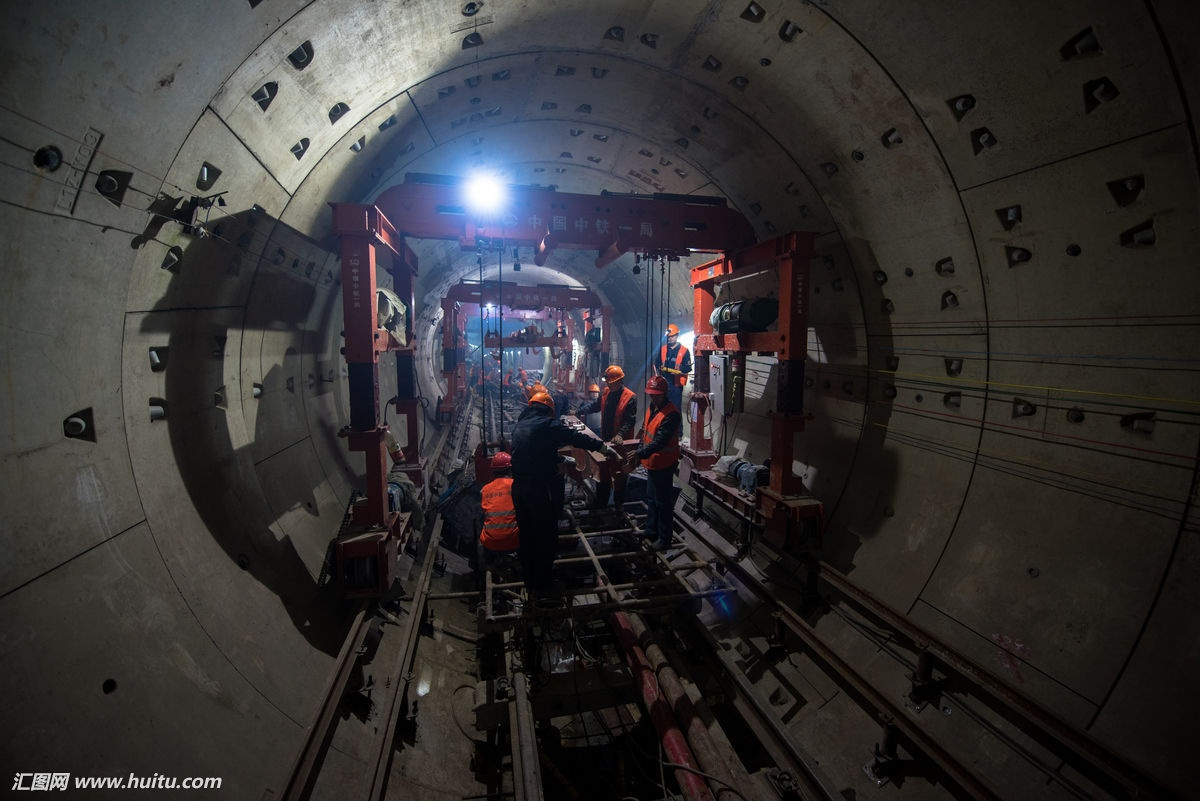red: (646, 374, 670, 403), (489, 450, 512, 476)
yellow: (525, 390, 555, 416), (604, 363, 625, 390), (665, 322, 679, 344), (588, 382, 600, 400)
